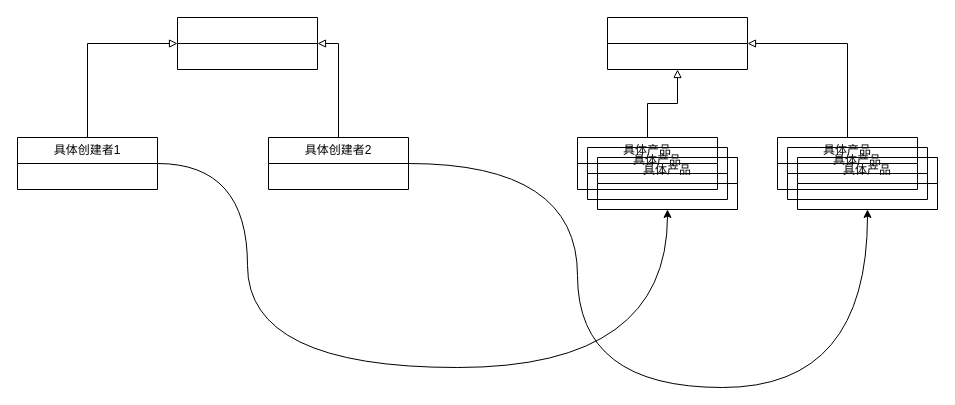
Image size: 955x405. Some labels were removed from this diagram. Here are the shapes that lost their labels. From the top down, the centre of each, then its label:
pixel 247 43: 创建者
pixel 677 43: 产品
